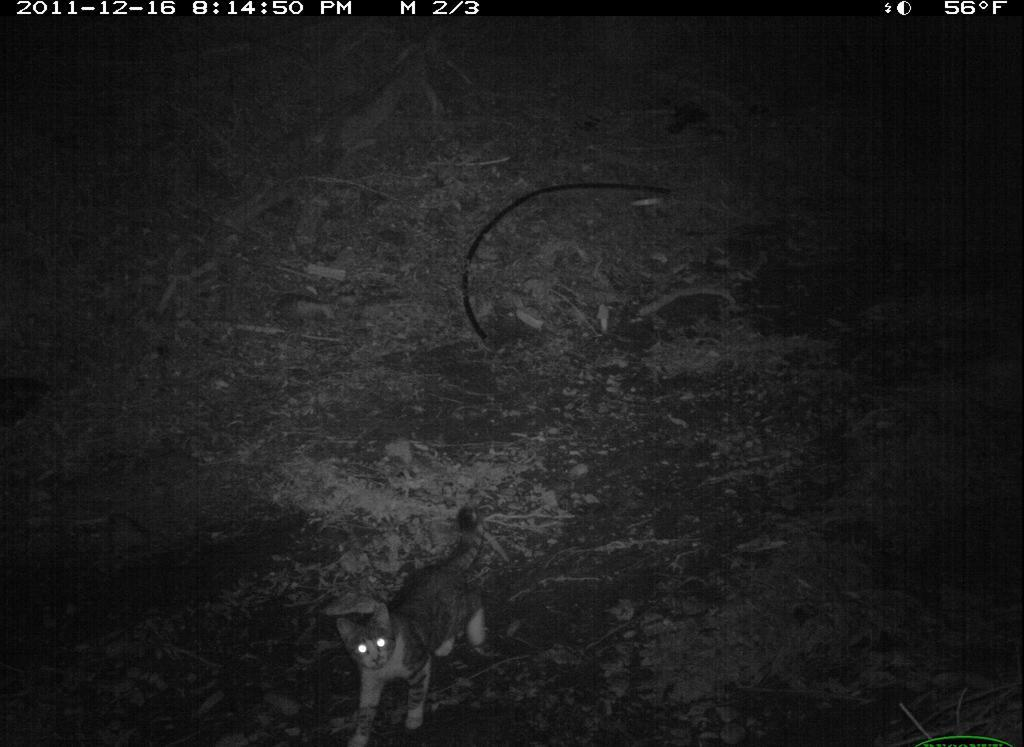cat: (331, 505, 500, 747)
